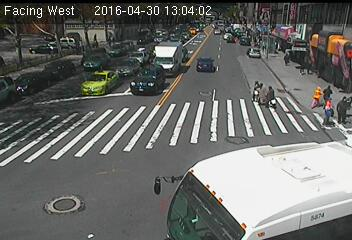neg: (305, 10, 323, 34), (177, 90, 192, 110), (180, 191, 195, 211), (100, 54, 115, 73), (32, 80, 46, 100), (94, 168, 108, 186), (203, 145, 216, 164), (235, 24, 248, 41), (198, 50, 210, 67), (58, 52, 70, 67), (151, 98, 163, 113), (166, 35, 176, 49), (165, 14, 175, 27), (117, 113, 126, 126), (207, 110, 216, 122), (144, 130, 153, 142), (109, 24, 117, 36), (190, 14, 198, 25), (142, 159, 150, 170), (95, 146, 103, 156), (149, 27, 156, 36), (87, 108, 94, 117), (45, 133, 51, 142), (226, 31, 232, 39), (218, 14, 224, 22), (136, 51, 142, 58), (49, 24, 55, 31)
pos: (331, 93, 351, 128), (318, 98, 339, 126), (308, 80, 329, 108), (246, 77, 266, 104), (262, 83, 281, 108), (252, 79, 270, 103), (318, 82, 335, 105), (295, 57, 310, 78), (279, 50, 292, 68), (89, 30, 98, 42)
